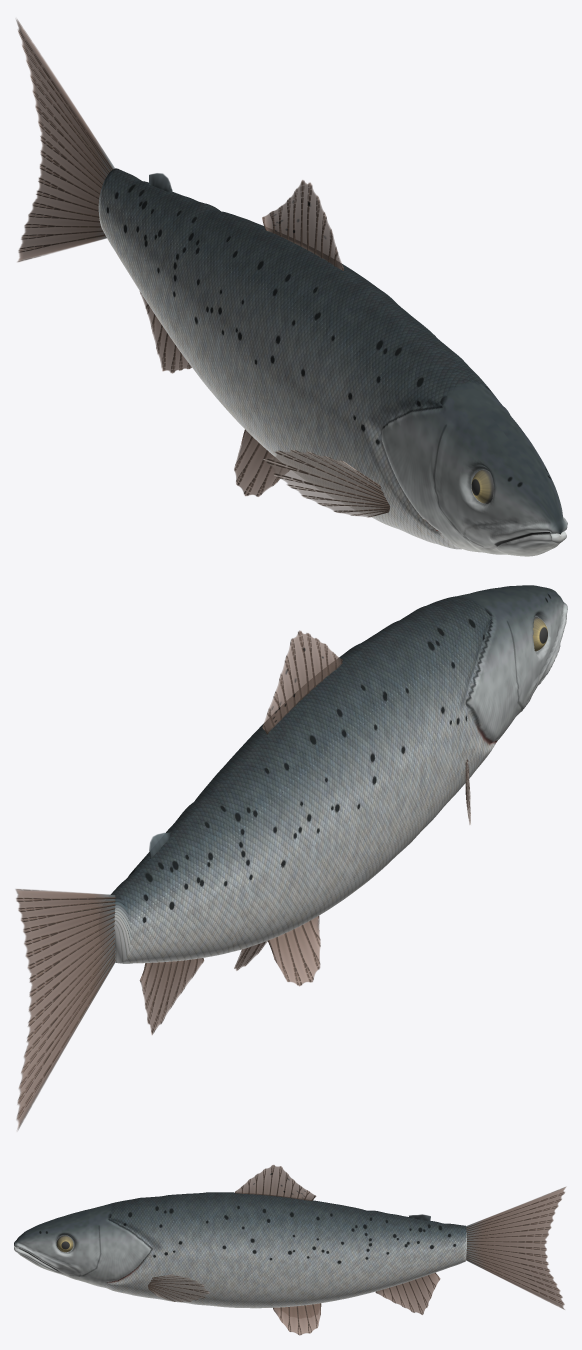
The model's file is troc.glb.
The picture shows the model from 3 angles, top to bottom: view 1: azimuth 30°, elevation 25°; view 2: azimuth 150°, elevation 25°; view 3: azimuth 270°, elevation 25°; orthographic projection. The views are drawn at different scales.
Visible parts, largest first — view 1: Body, FinCaudal, FinPectoral, FinDorsal1, FinPelvic, FinAnal; view 2: Body, FinCaudal, FinDorsal1, FinPelvic, FinAnal; view 3: Body, FinCaudal, FinDorsal1, FinAnal, FinPectoral, FinPelvic, EyeRight.
Boxes of the visible parts, left/top/right/bottom form: Body: left=98, top=168, right=567, bottom=556; FinCaudal: left=16, top=19, right=114, bottom=262; FinPectoral: left=264, top=450, right=390, bottom=517; FinDorsal1: left=262, top=180, right=343, bottom=270; FinPelvic: left=234, top=429, right=289, bottom=496; FinAnal: left=139, top=291, right=191, bottom=373; Body: left=110, top=585, right=567, bottom=963; FinCaudal: left=15, top=889, right=115, bottom=1130; FinDorsal1: left=262, top=630, right=342, bottom=734; FinPelvic: left=234, top=916, right=320, bottom=986; FinAnal: left=139, top=958, right=204, bottom=1034; Body: left=14, top=1192, right=466, bottom=1308; FinCaudal: left=466, top=1186, right=566, bottom=1309; FinDorsal1: left=235, top=1165, right=316, bottom=1200; FinAnal: left=375, top=1272, right=440, bottom=1314; FinPectoral: left=147, top=1274, right=209, bottom=1301; FinPelvic: left=273, top=1303, right=321, bottom=1335; EyeRight: left=56, top=1235, right=73, bottom=1252.
Size of the model in its own units: 0.2208 by 0.3293 by 1.01.
Materials: 9 (8 with a texture image).
